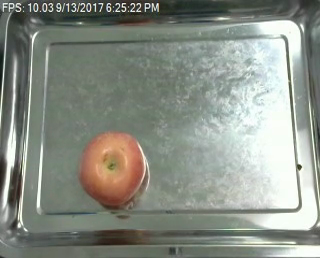Apple: (76, 128, 146, 210)
